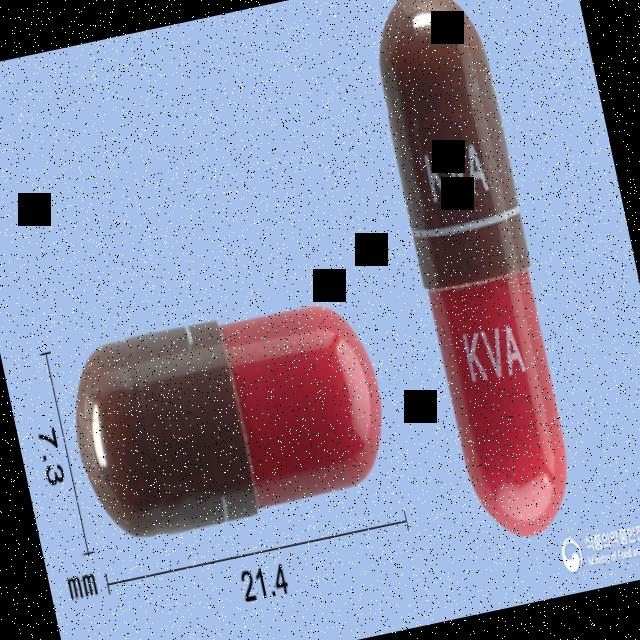Vancozin Cap-250mg: (362, 0, 587, 545)
